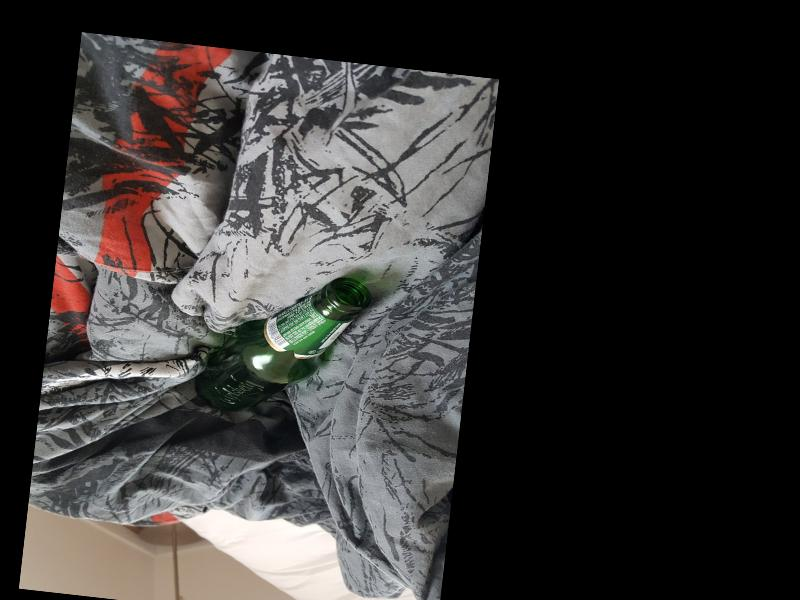Beer: (191, 261, 371, 425)
